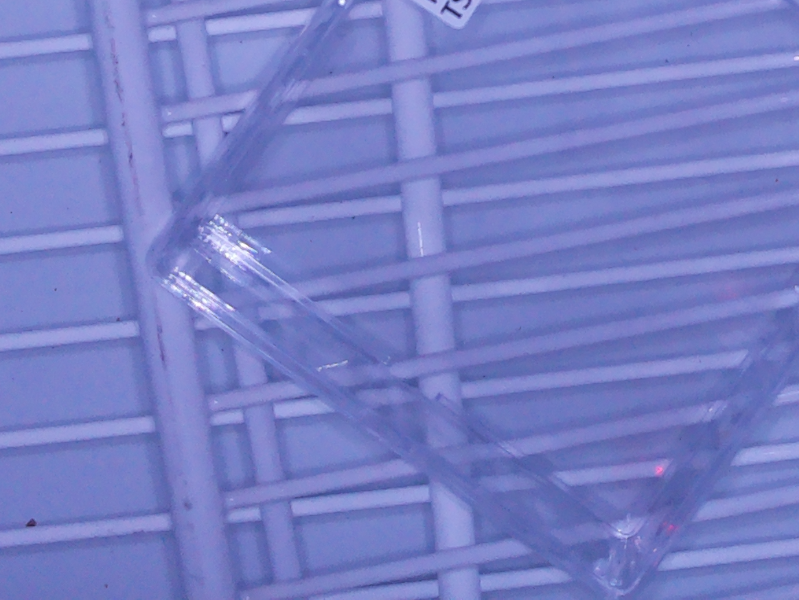plate: (144, 1, 799, 598)
